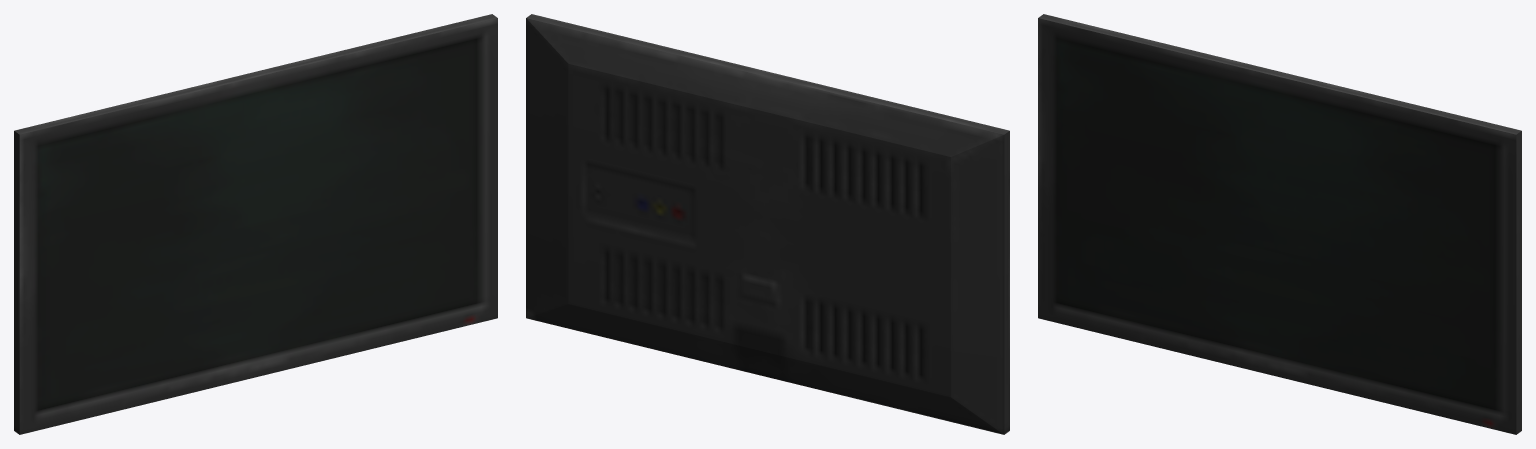
The picture shows the model from 3 angles, left to right: view 1: azimuth 30°, elevation 25°; view 2: azimuth 150°, elevation 25°; view 3: azimuth 330°, elevation 25°; orthographic projection.
Parts seen in each view (by area): view 1: tv2; view 2: tv2; view 3: tv2.
Boxes of the visible parts, x1,y1,x2,y2 form: tv2: (14,14,497,434); tv2: (526,14,1009,434); tv2: (1038,14,1521,434).
Size of the model in its own units: 200 by 120 by 8.
Materials: 1 (1 with a texture image).
